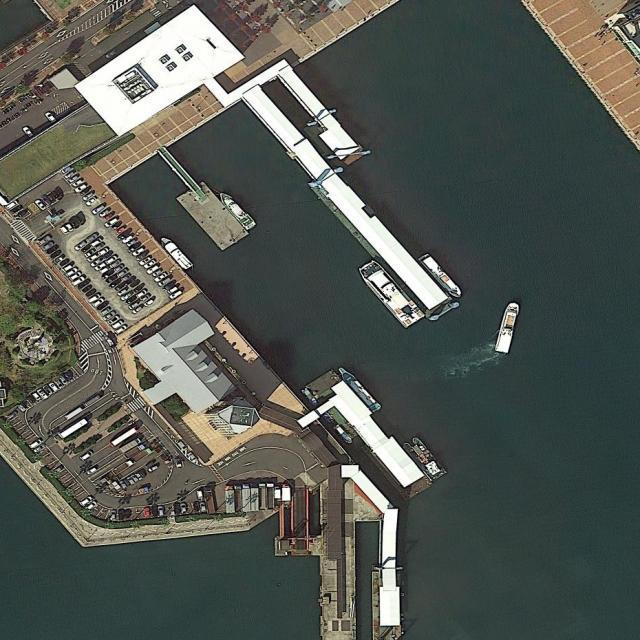Other Ship: (355, 255, 424, 333), (335, 363, 382, 414), (401, 434, 448, 484), (333, 423, 354, 445), (300, 387, 319, 407)
Yacht: (418, 251, 462, 298), (215, 186, 257, 233), (494, 301, 522, 355), (159, 233, 195, 272)
